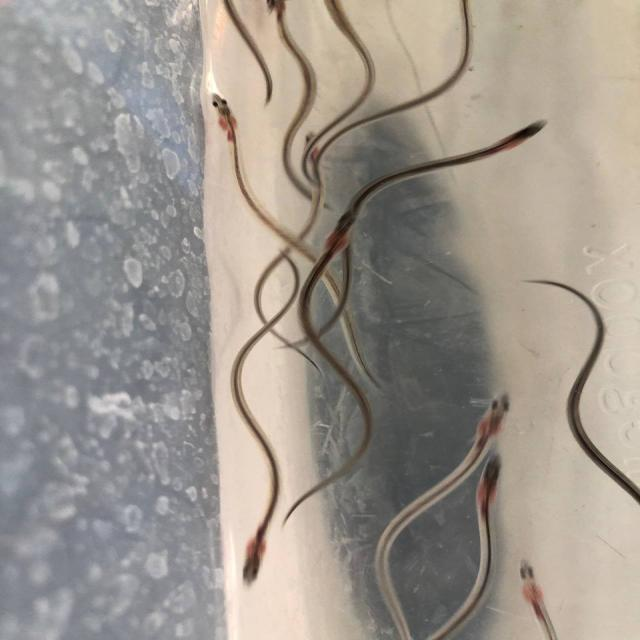glass_eel: (463, 387, 523, 452), (202, 90, 257, 156), (506, 558, 554, 624), (228, 531, 276, 592), (470, 452, 512, 518), (315, 209, 366, 259), (292, 129, 337, 183), (481, 118, 555, 149), (256, 0, 284, 21)
